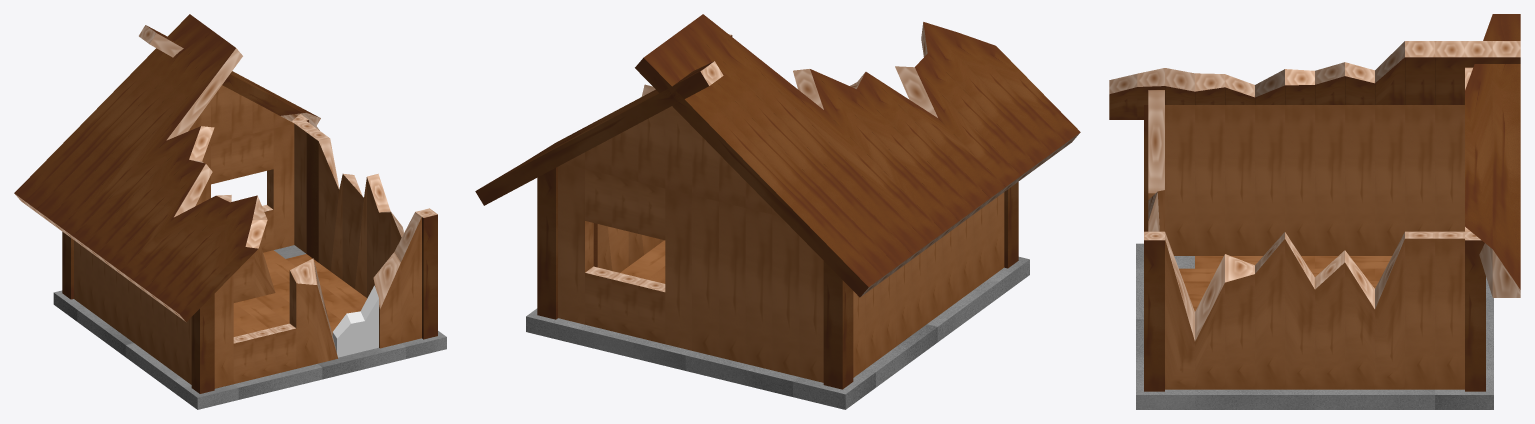
File: House_1_Destroyed_1.glb
3 renders of one model, left to right at view 1: azimuth 30°, elevation 25°; view 2: azimuth 150°, elevation 25°; view 3: azimuth 270°, elevation 25°, orthographic. The views are drawn at different scales.
Parts seen in each view (by area): view 1: Cube, Cube.001, Cube.002; view 2: Cube, Cube.001; view 3: Cube, Cube.001.
Part boxes in pixels (bbox=[...]): Cube: bbox=[53, 85, 446, 409]; Cube.001: bbox=[14, 14, 320, 322]; Cube.002: bbox=[332, 285, 378, 357]; Cube: bbox=[526, 34, 1029, 409]; Cube.001: bbox=[475, 14, 1080, 297]; Cube: bbox=[1136, 67, 1493, 409]; Cube.001: bbox=[1109, 14, 1520, 297].
Bounding box in the file's own units: 7.93 × 6.1 × 7.4.
1 material, 1 textured.
